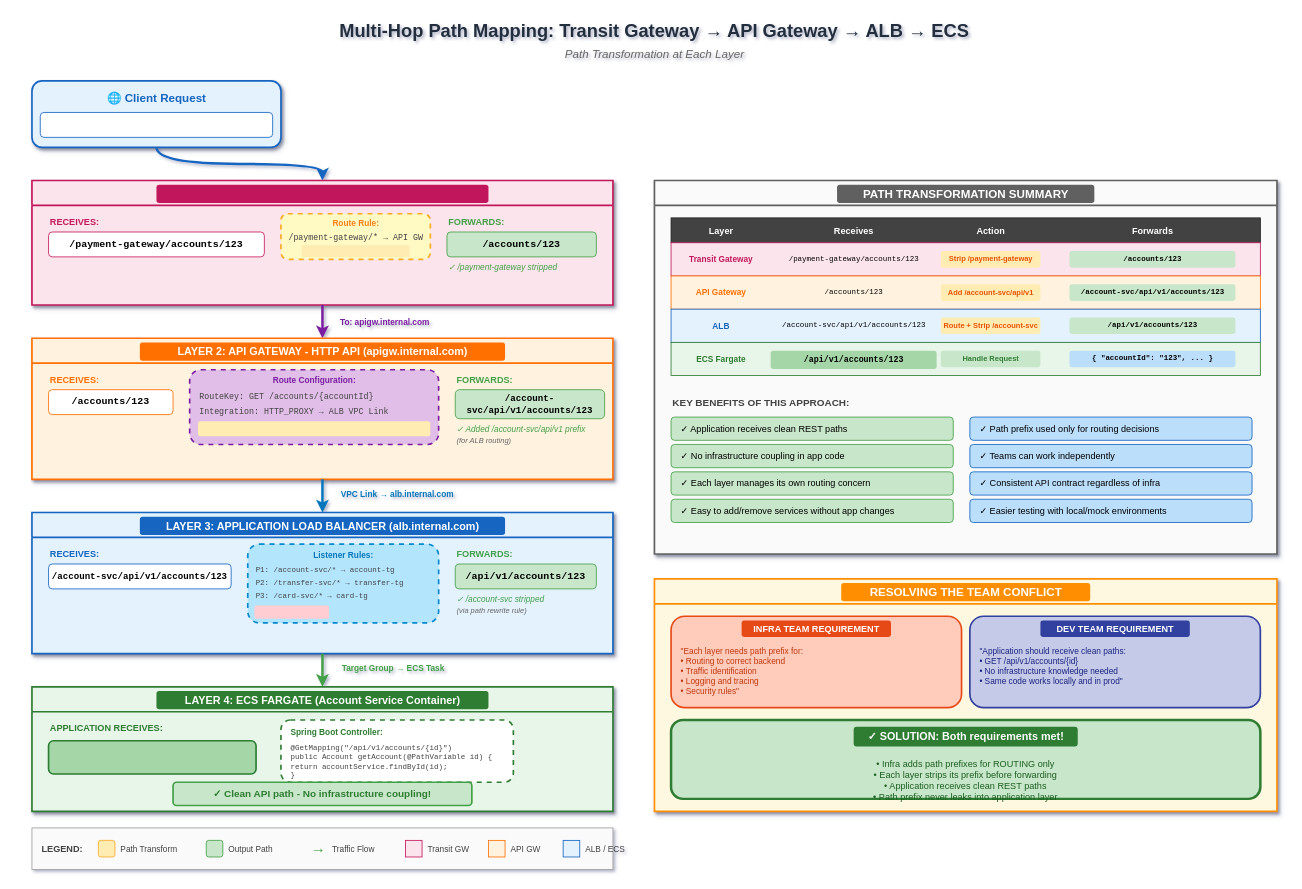
Image size: 1302x889. Some labels were removed from this diagram. Each missing label, with the centre of its shape:
"Action: STRIP PREFIX" goes at [355,250].
"Default: 404" goes at [291,611].
"GET /api/v1/accounts/123" goes at [151,757].
"https://tgw.example.com/payment-gateway/accounts/123" goes at [156,124].
"LAYER 1: TRANSIT GATEWAY (tgw.example.com)" goes at [322,193].
"overwrite:path: /account-svc/api/v1/accounts/${id}" goes at [314,428].
